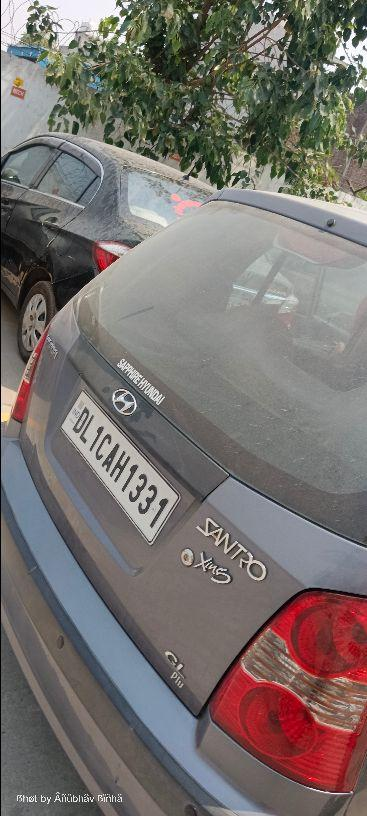license_plate: (58, 387, 182, 545)
